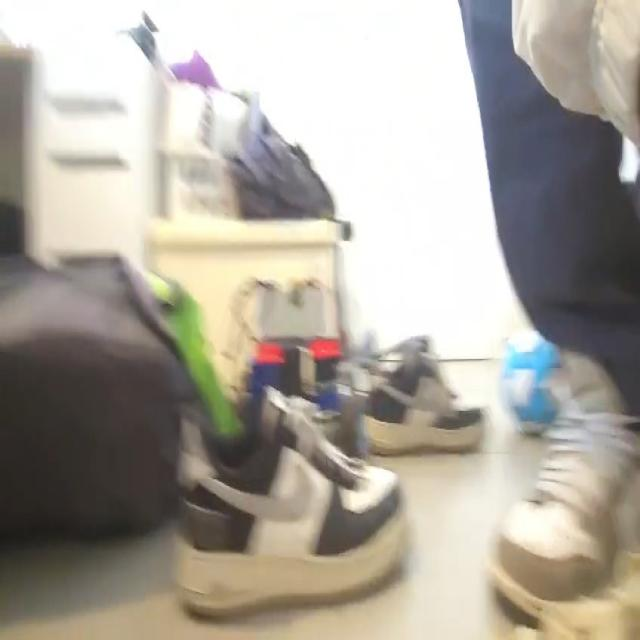Robot: (234, 275, 362, 460)
